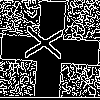X: (25, 25, 73, 62)
